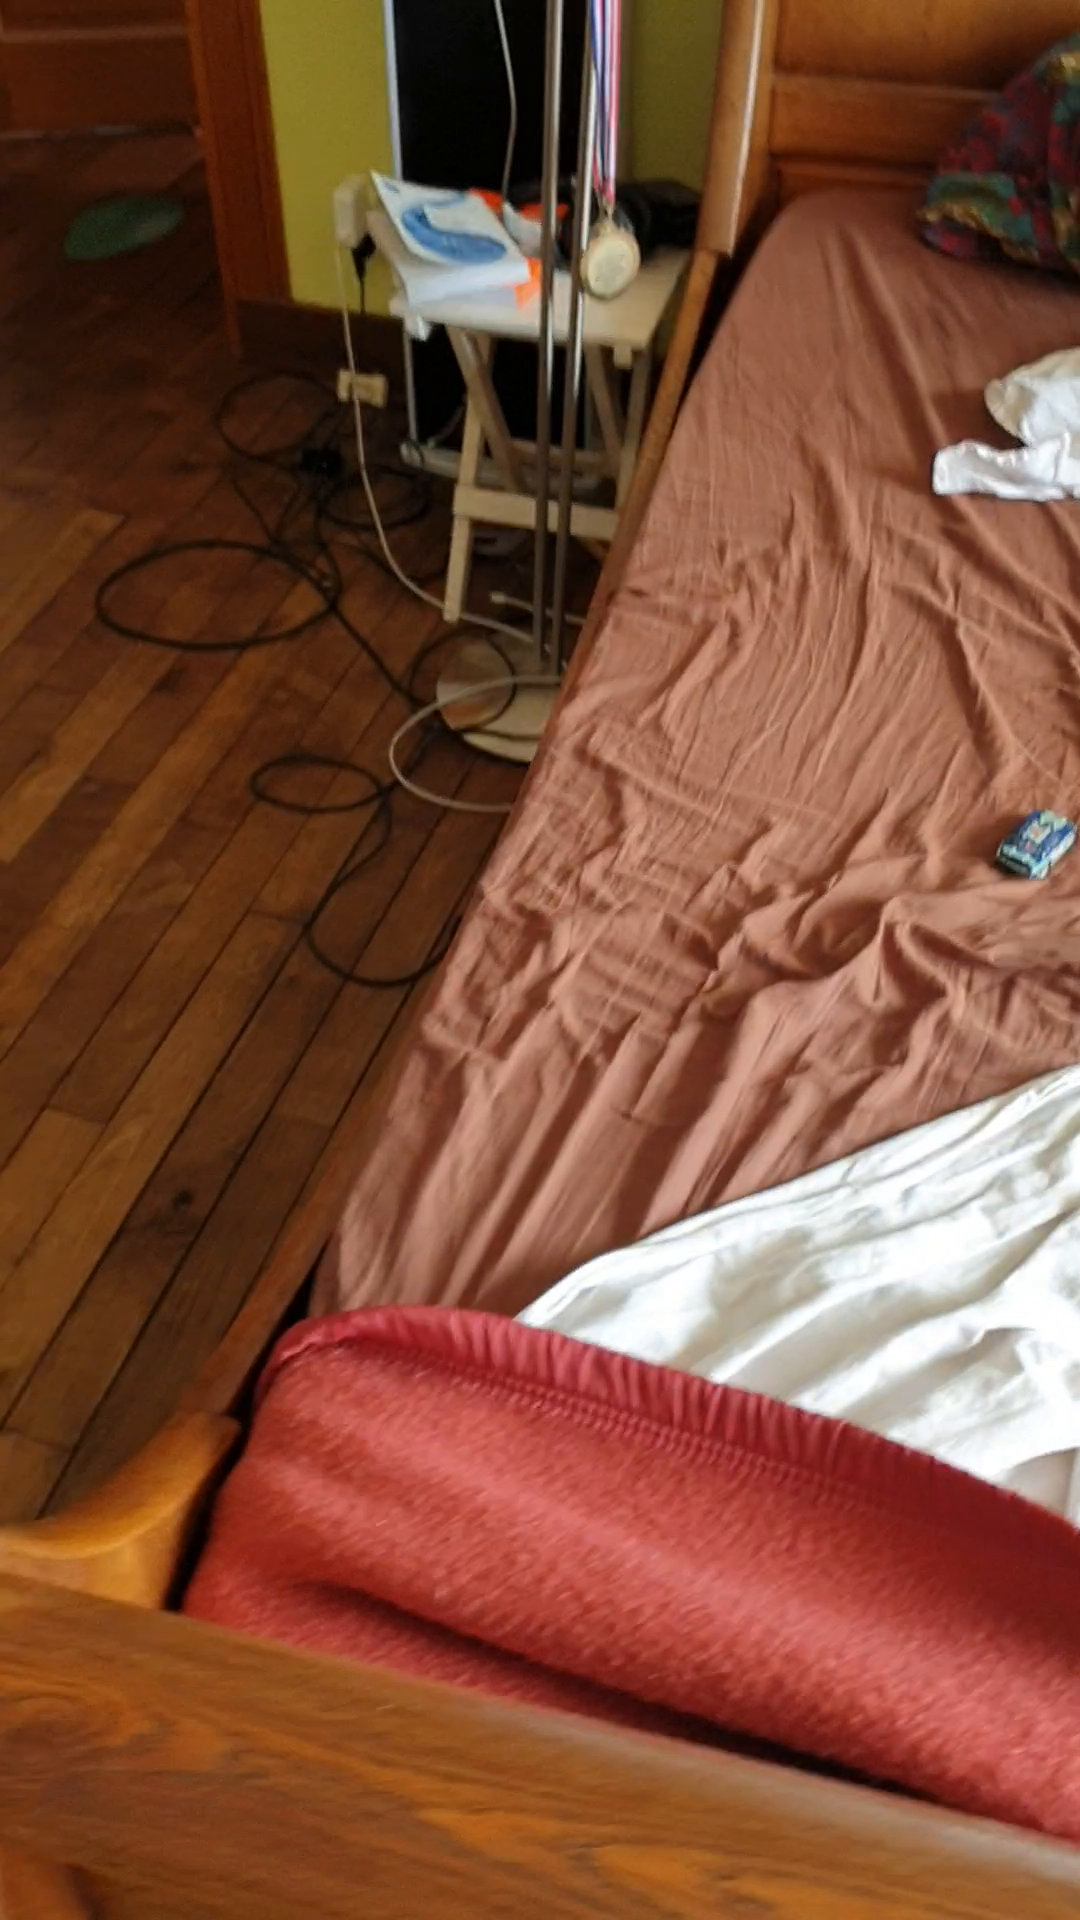cars: (996, 807, 1080, 878)
